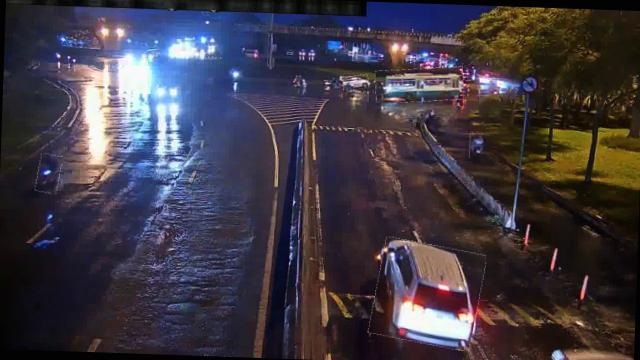Bike: (36, 154, 62, 194), (469, 134, 484, 159)
Bus: (375, 66, 464, 105)
Car: (371, 240, 484, 348), (342, 74, 369, 90)
